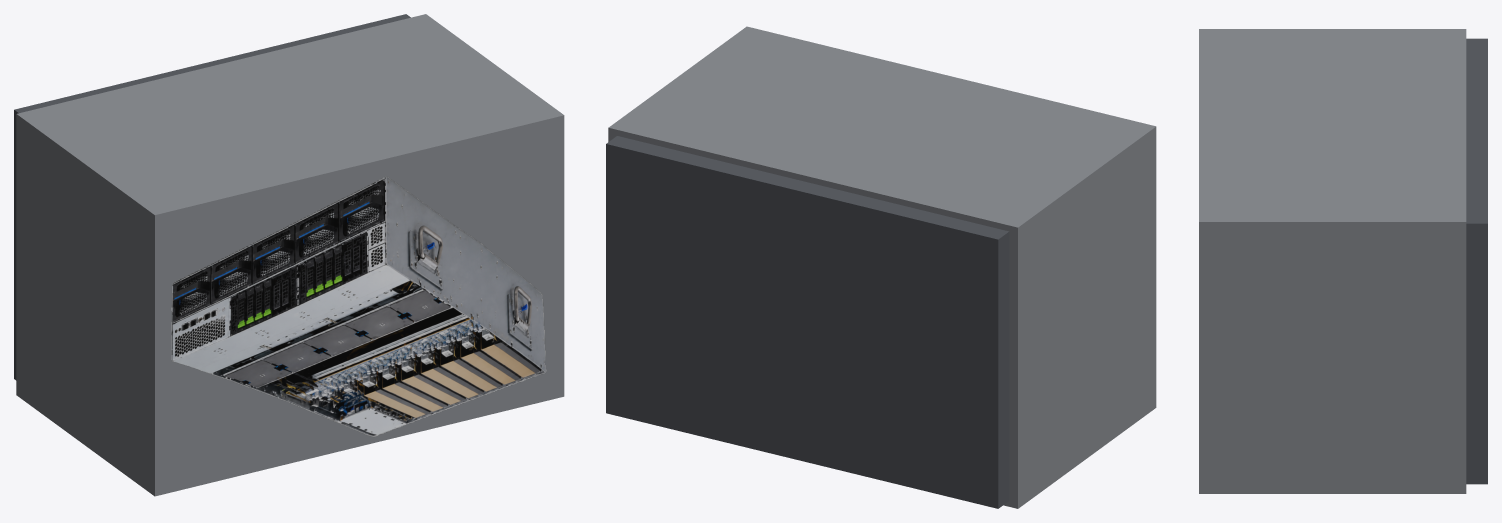
Rendered from pro6000-8gpu-server.glb.
3 renders of one model, left to right at view 1: azimuth 30°, elevation 25°; view 2: azimuth 150°, elevation 25°; view 3: azimuth 270°, elevation 25°, orthographic. The views are drawn at different scales.
Parts seen in each view (by area): view 1: body, product_image, rear; view 2: rear, body; view 3: body, rear.
Boxes of the visible parts, x1=… form: body: x1=16, y1=14, x2=564, y2=496; product_image: x1=171, y1=176, x2=546, y2=436; rear: x1=14, y1=14, x2=410, y2=380; rear: x1=606, y1=136, x2=1009, y2=508; body: x1=608, y1=26, x2=1156, y2=508; body: x1=1199, y1=29, x2=1466, y2=493; rear: x1=1466, y1=38, x2=1487, y2=484.
Bounding box in the file's own units: 2 × 1.31 × 1.19.
Materials: 1 (1 with a texture image).
